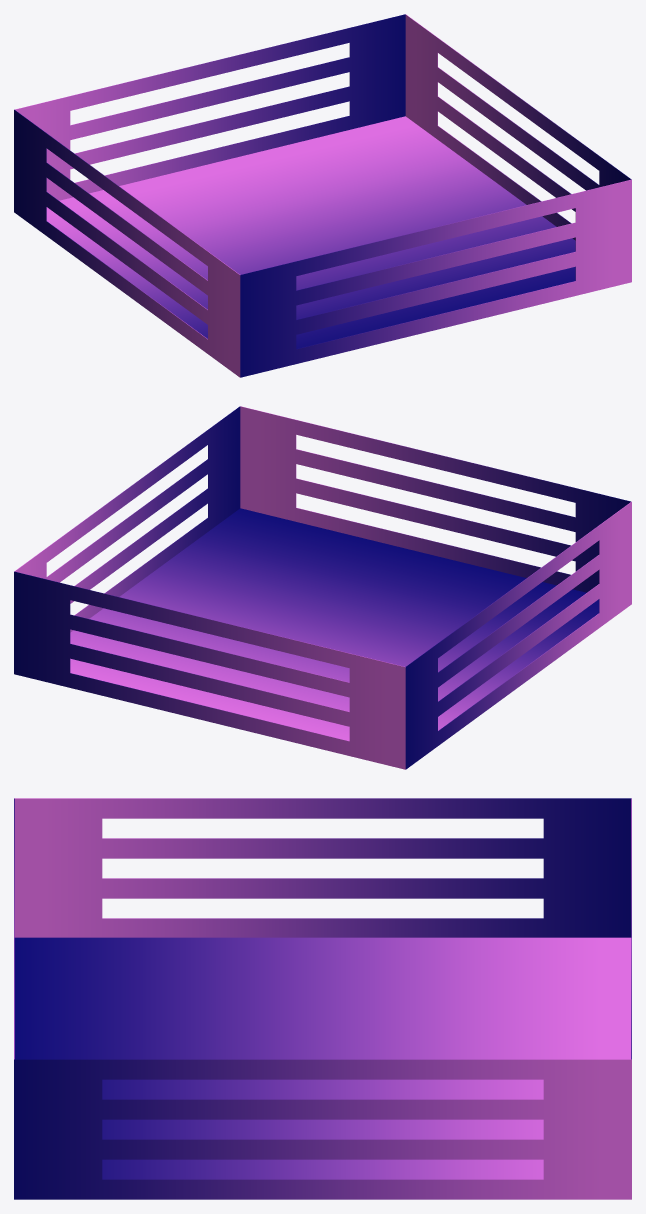
File: Env_8.fbx
3 views of the same model, one above another, from view 1: azimuth 30°, elevation 25°; view 2: azimuth 150°, elevation 25°; view 3: azimuth 270°, elevation 25° (orthographic). The views are drawn at different scales.
Parts seen in each view (by area): view 1: Cube.001; view 2: Cube.001; view 3: Cube.001.
Boxes of the visible parts, bbox=[...] form: Cube.001: bbox=[14, 14, 631, 377]; Cube.001: bbox=[14, 406, 631, 769]; Cube.001: bbox=[14, 798, 631, 1199].
Bounding box in the file's own units: 40 × 10 × 40.
1 material, 1 textured.
